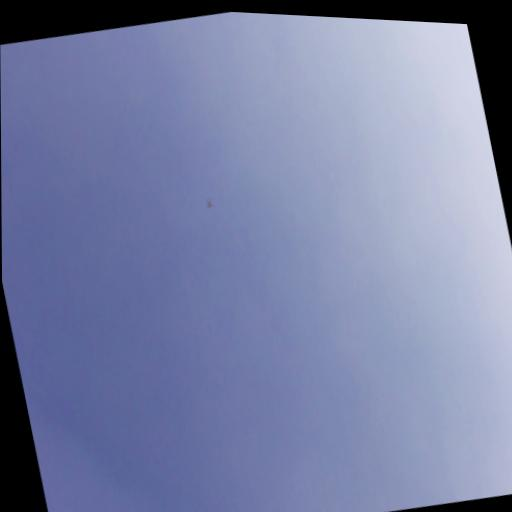drones: (204, 195, 215, 211)
